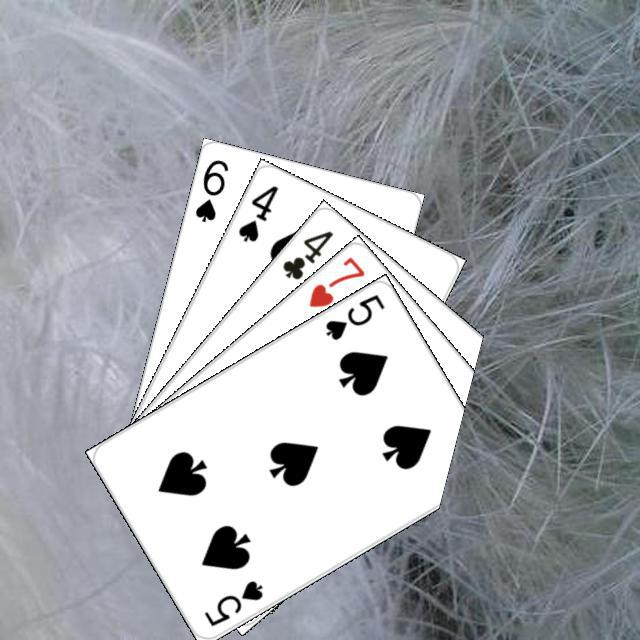4c: (277, 225, 335, 282)
4s: (233, 180, 280, 244)
5s: (199, 575, 265, 629), (320, 289, 387, 342)
6s: (190, 154, 230, 224)
7h: (303, 251, 367, 310)
